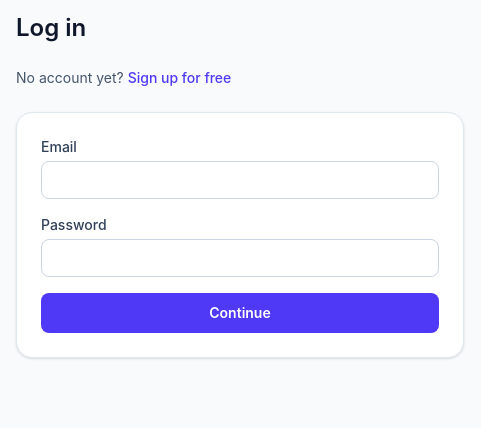
Scenario: LoginPage › surfaces server error banner when login rejects
Type "x@y.z" into the field labelled "Email" at (240, 180), box x1=41 y1=161 x2=439 y2=199
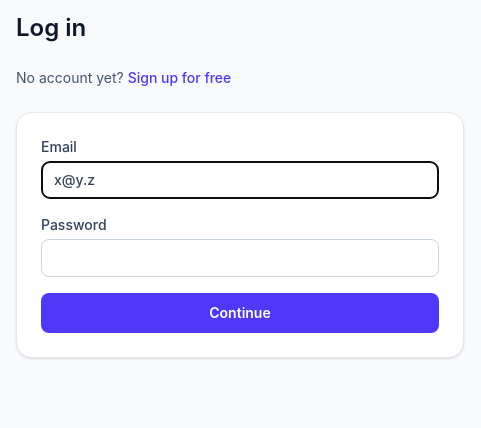
Type "no" into the password field labelled "Password" at (240, 258), box x1=41 y1=239 x2=439 y2=277
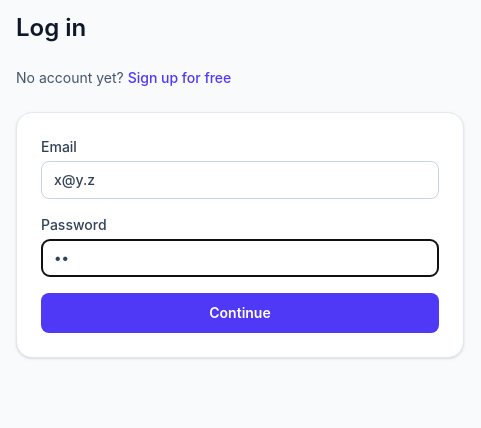
Click the button "Continue" at (240, 313), box x1=41 y1=293 x2=439 y2=333
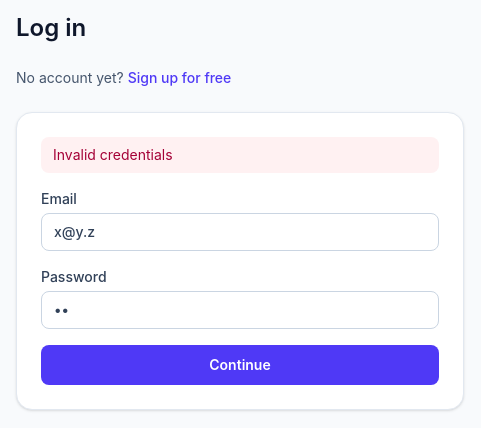
Now the message reads "Invalid credentials", box x1=53 y1=146 x2=173 y2=163
